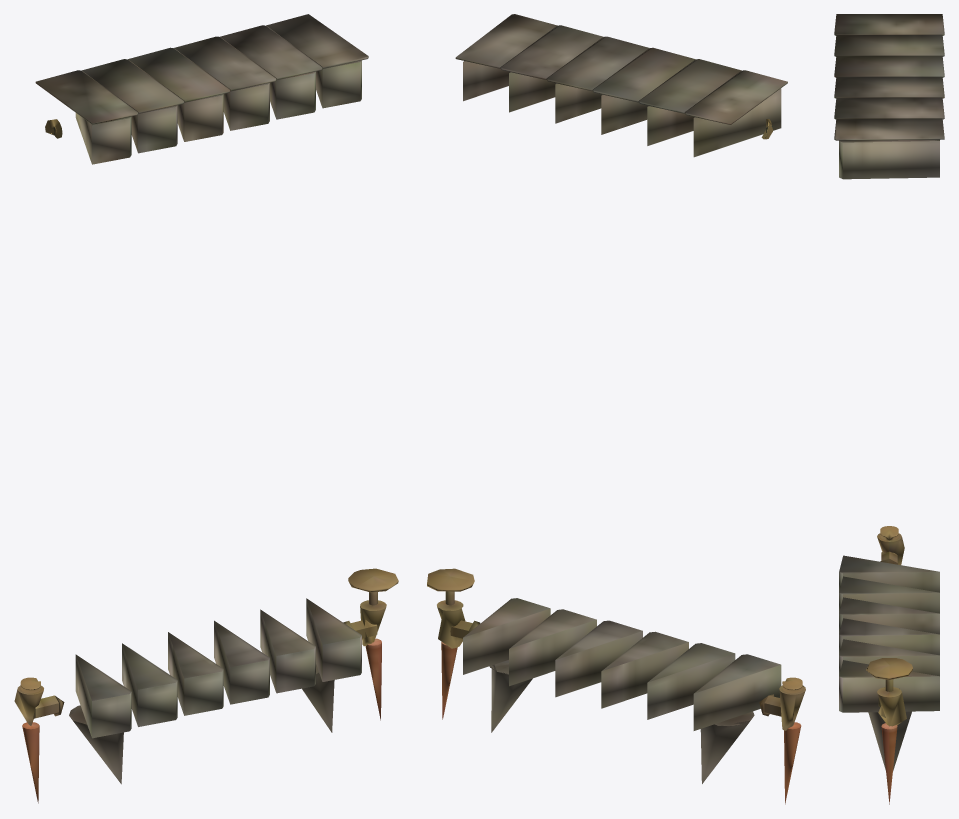
File: column-radiator-6.glb
3 views of the same model, side by side, from view 1: azimuth 30°, elevation 25°; view 2: azimuth 150°, elevation 25°; view 3: azimuth 270°, elevation 25° (orthographic). The views are drawn at different scales.
Visible parts, largest first — view 1: radiator, valve_wheel; view 2: radiator, valve_wheel; view 3: radiator, valve_wheel.
Part boxes in pixels (bbox=[...]): radiator: bbox=[14, 14, 386, 803]; valve_wheel: bbox=[348, 568, 398, 605]; radiator: bbox=[437, 14, 805, 804]; valve_wheel: bbox=[427, 568, 474, 605]; radiator: bbox=[834, 14, 944, 804]; valve_wheel: bbox=[866, 658, 912, 691].
Bounding box in the file's own units: 0.3876 × 0.6855 × 0.106.
Materials: 1 (1 with a texture image).
